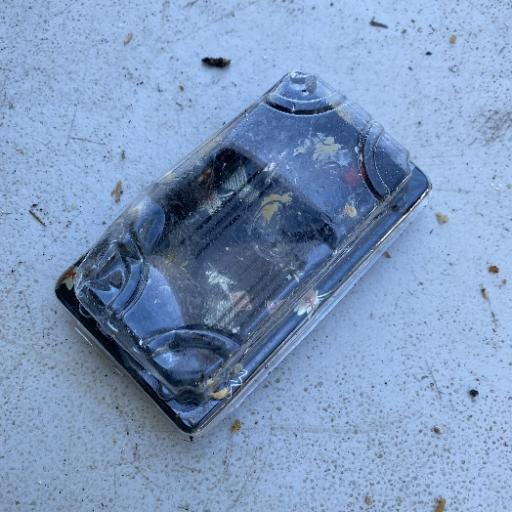Plastic: (53, 68, 433, 442)
